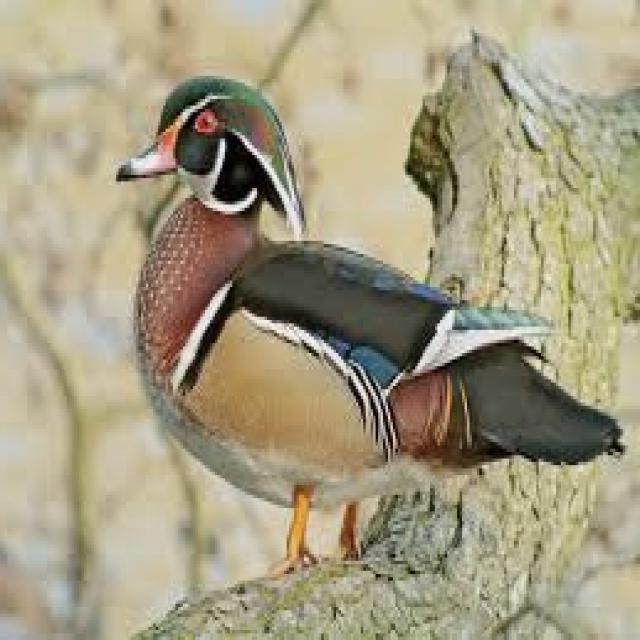duck: (119, 76, 623, 567)
